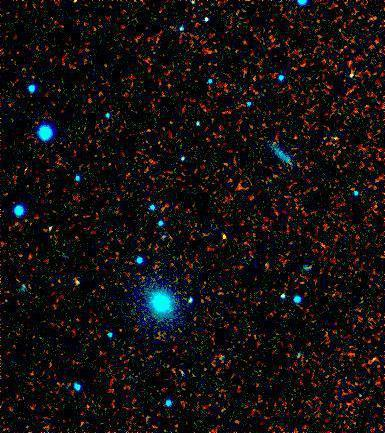star: (215, 224, 245, 254)
